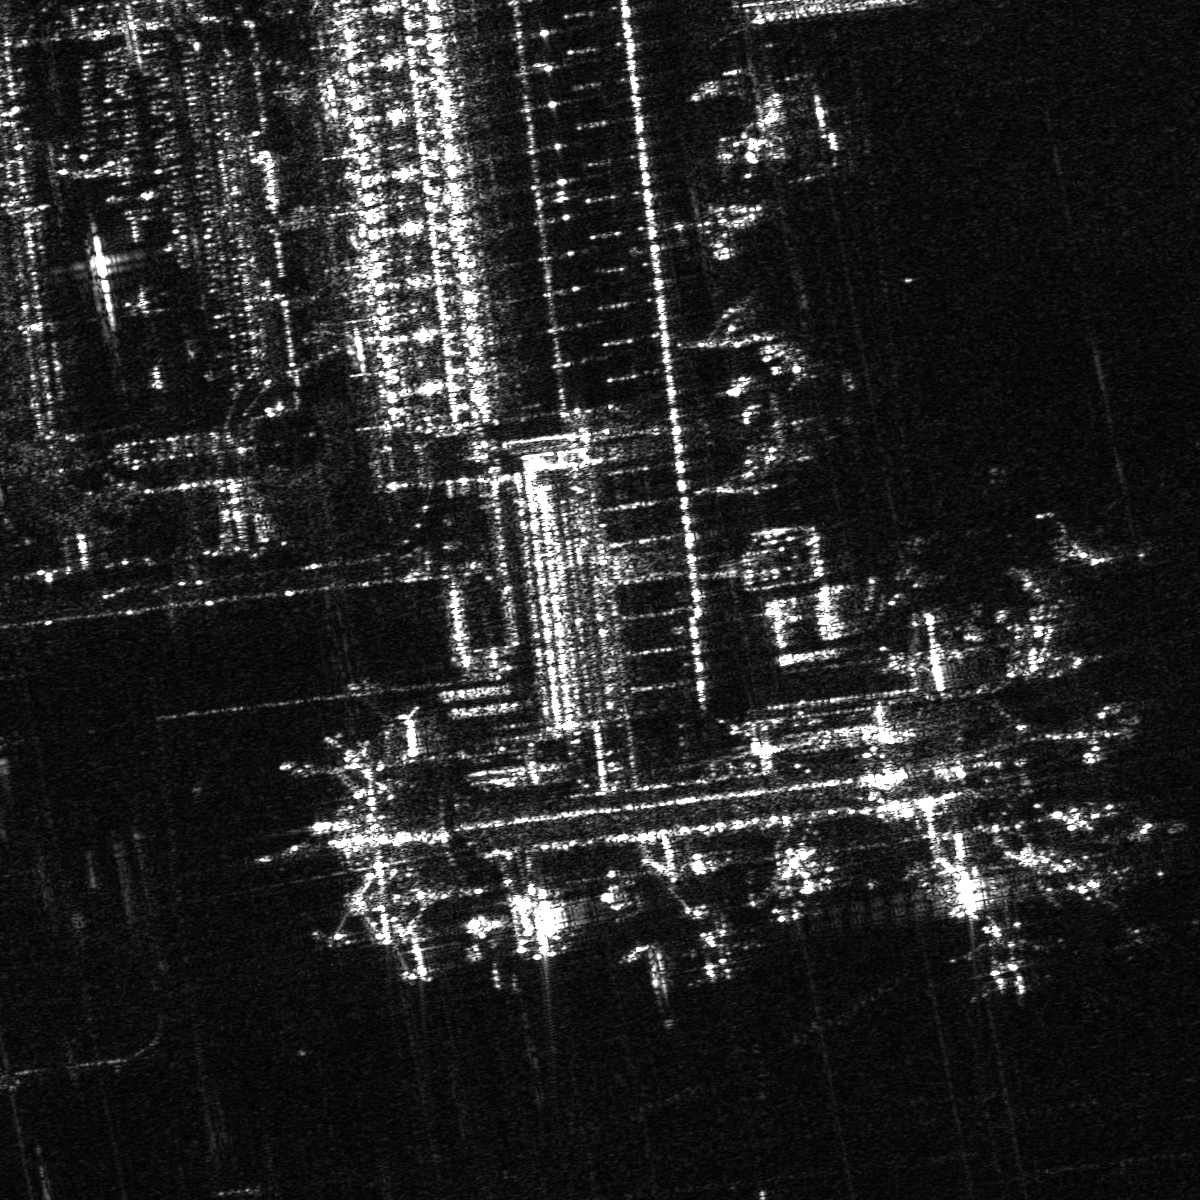Boeing737: (951, 921, 1056, 1003)
